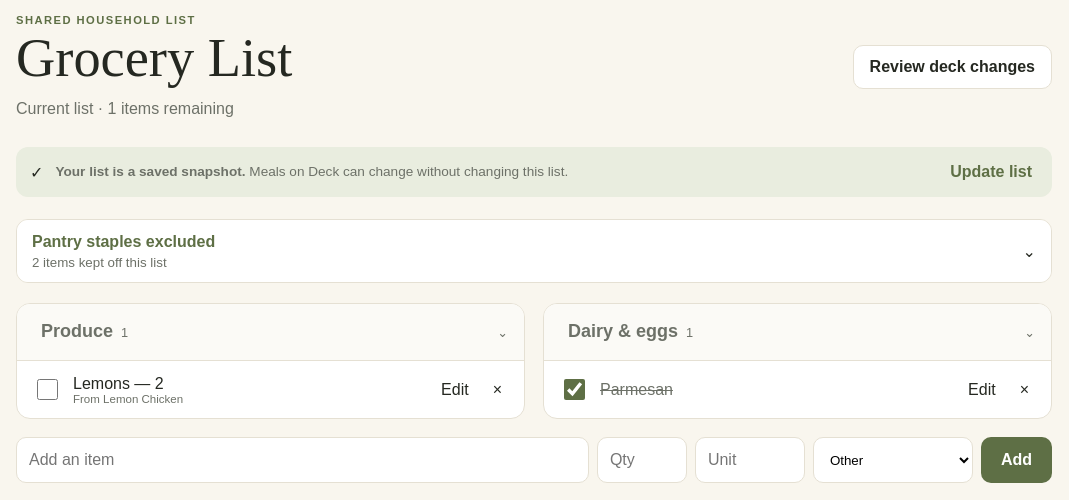
Test: Groceries › collapses and expands grocery sections
Expected: the text "Lemons — 2" is shown, [73,375,164,392]
Click the button "Produce 1 ⌄" at x=77, y=331, box [17,304,524,360]
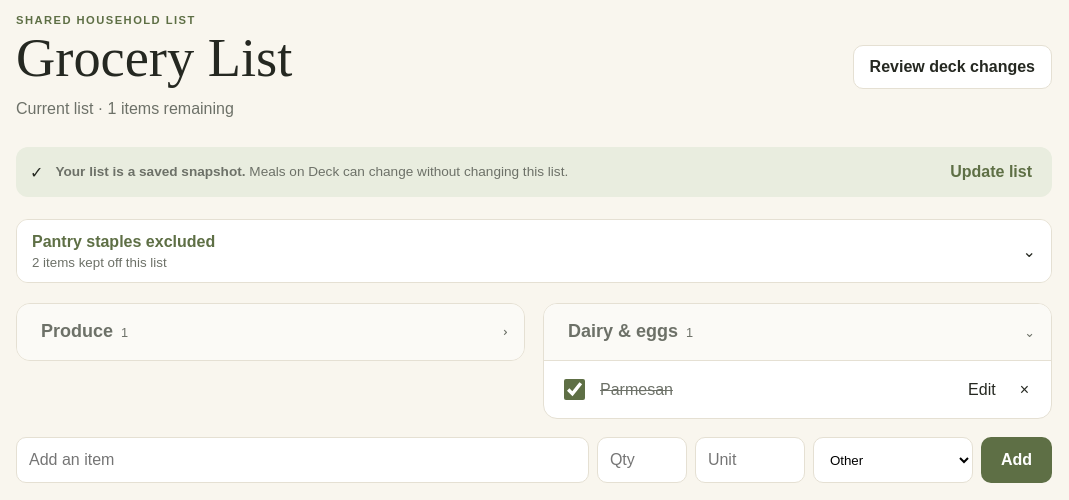
Expected: the text "Lemons — 2" is gone
